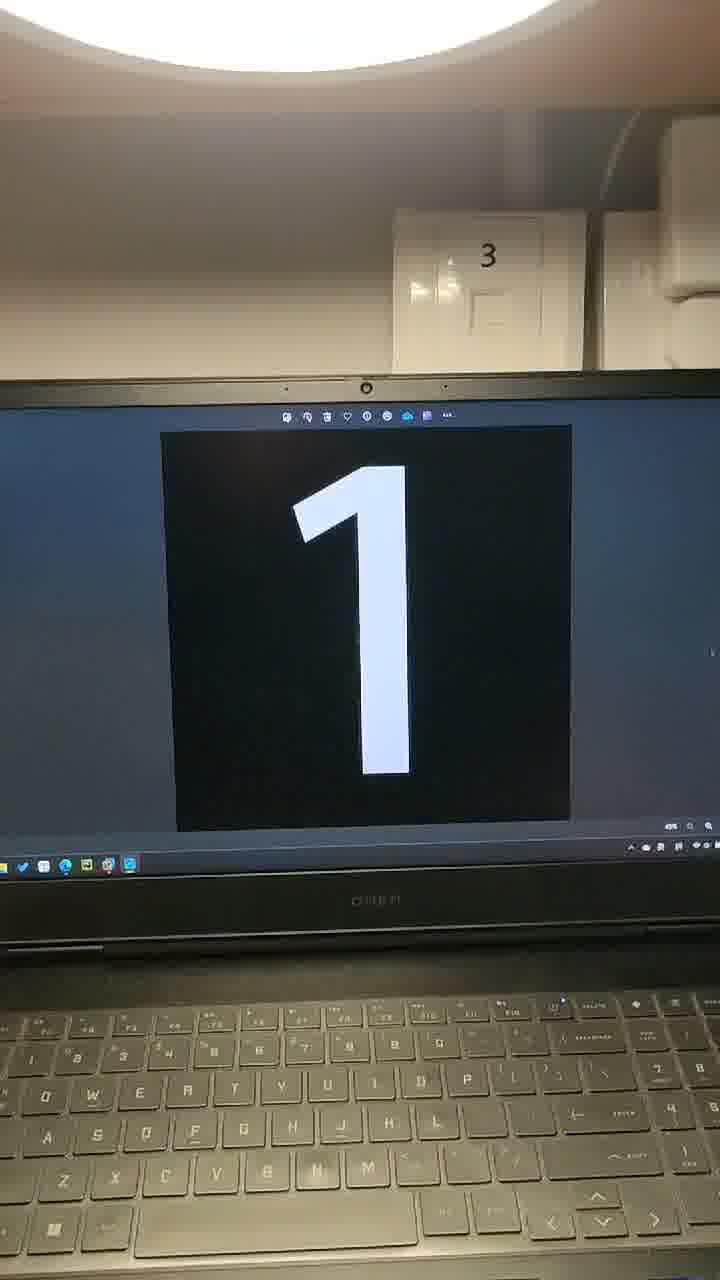one: (166, 397, 476, 836)
